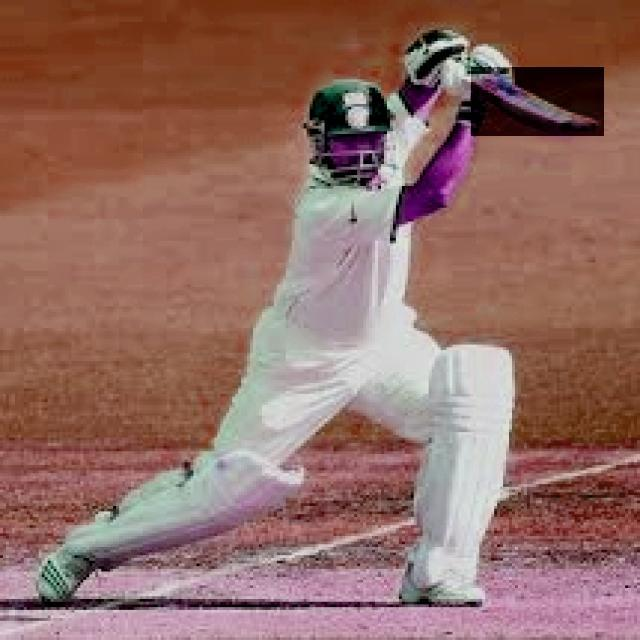bat: (471, 68, 606, 136)
toe: (558, 111, 604, 133)
